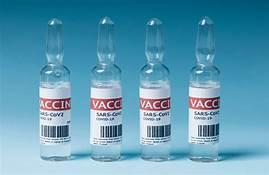Syringe: (134, 14, 178, 166), (86, 11, 126, 164), (184, 12, 224, 164), (36, 12, 74, 164)
